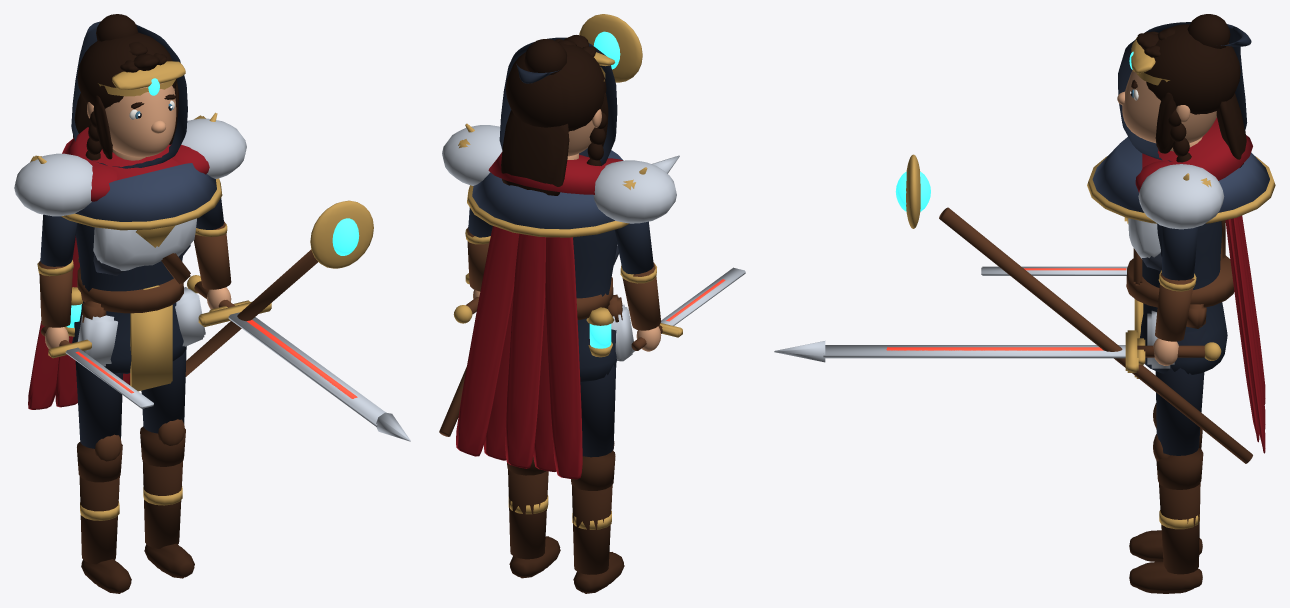
The model's file is adventurer.glb.
3 views of the same model, side by side, from view 1: azimuth 30°, elevation 25°; view 2: azimuth 150°, elevation 25°; view 3: azimuth 270°, elevation 25° (orthographic). The views are drawn at different scales.
Visible parts, largest first — view 1: Outfit_1, Outfit_2, LegMesh_L, LegMesh_R, TorsoBase, CapeMesh, Weapon_2, Weapon_0, Hair_1, HeadMesh, ArmMesh_L, Hair_3 (+5 smaller); view 2: CapeMesh, LegMesh_L, Outfit_1, Hair_1, Outfit_2, TorsoBase, LegMesh_R, ArmMesh_L, Weapon_2, Hair_0, Hair_3, Hair_2 (+5 smaller); view 3: LegMesh_R, Hair_1, TorsoBase, Weapon_2, CapeMesh, Weapon_0, Outfit_2, Outfit_1, ArmMesh_R, HeadMesh, Hair_3, Hair_2 (+3 smaller).
Part boxes in pixels (bbox=[...]): Outfit_1: bbox=[14, 115, 246, 366]; Outfit_2: bbox=[61, 163, 222, 391]; LegMesh_L: bbox=[74, 321, 131, 593]; LegMesh_R: bbox=[140, 348, 194, 578]; TorsoBase: bbox=[72, 223, 190, 373]; CapeMesh: bbox=[28, 127, 209, 409]; Weapon_2: bbox=[185, 200, 373, 376]; Weapon_0: bbox=[187, 275, 410, 441]; Hair_1: bbox=[73, 32, 178, 159]; HeadMesh: bbox=[87, 83, 176, 160]; ArmMesh_L: bbox=[37, 214, 77, 348]; Hair_3: bbox=[71, 21, 187, 168]; CapeMesh: bbox=[456, 152, 622, 479]; LegMesh_L: bbox=[571, 329, 624, 593]; Outfit_1: bbox=[442, 125, 676, 361]; Hair_1: bbox=[501, 41, 608, 195]; Outfit_2: bbox=[467, 150, 629, 237]; TorsoBase: bbox=[573, 230, 622, 382]; LegMesh_R: bbox=[507, 457, 560, 578]; ArmMesh_L: bbox=[614, 221, 661, 351]; Weapon_2: bbox=[439, 14, 642, 436]; Hair_0: bbox=[506, 35, 596, 131]; Hair_3: bbox=[499, 37, 617, 165]; Hair_2: bbox=[524, 39, 607, 165]; LegMesh_R: bbox=[1129, 328, 1205, 593]; Hair_1: bbox=[1144, 24, 1246, 167]; TorsoBase: bbox=[1126, 220, 1234, 374]; Weapon_2: bbox=[895, 154, 1252, 463]; CapeMesh: bbox=[1135, 117, 1265, 453]; Weapon_0: bbox=[774, 330, 1221, 372]; Outfit_2: bbox=[1087, 137, 1275, 378]; Outfit_1: bbox=[1124, 164, 1224, 368]; ArmMesh_R: bbox=[1153, 226, 1197, 365]; HeadMesh: bbox=[1117, 70, 1216, 151]; Hair_3: bbox=[1118, 22, 1251, 161]; Hair_2: bbox=[1168, 14, 1230, 162].
Size of the model in its own units: 0.7875 by 1.82 by 1.48.
